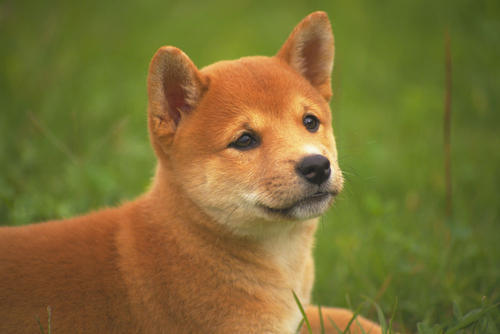dog: (139, 16, 358, 235)
